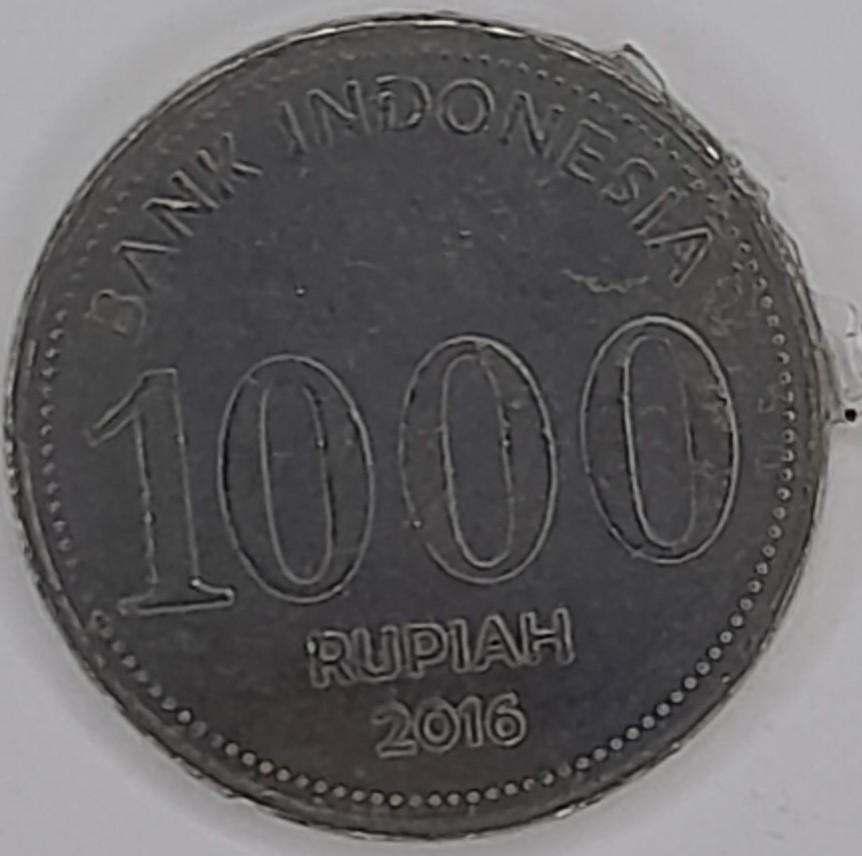coin_1000_e2016: (15, 17, 851, 856)
